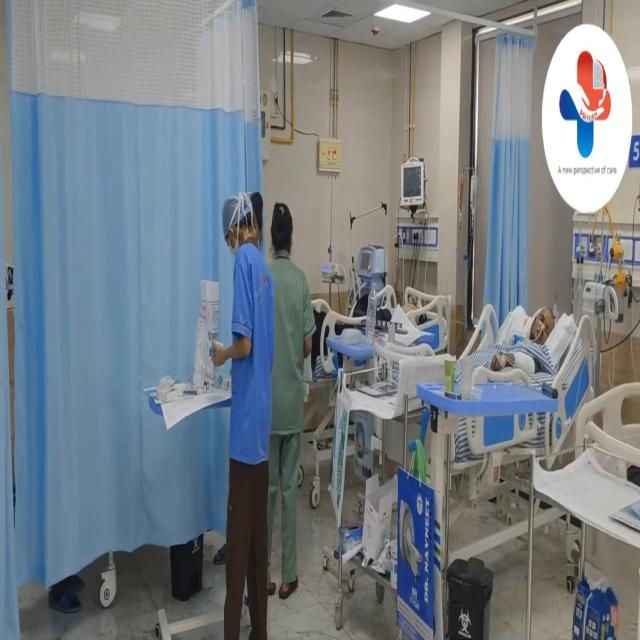Nurse: (216, 180, 275, 640), (268, 182, 320, 597)
Patient: (513, 282, 565, 388), (399, 274, 433, 334)
